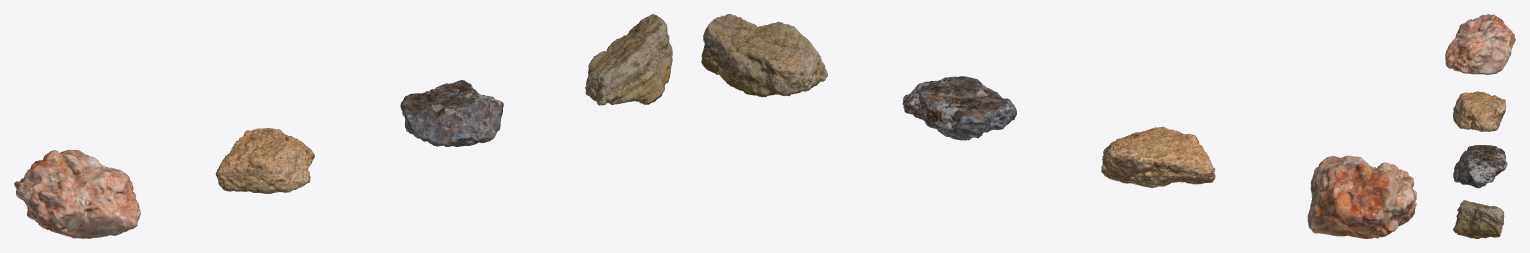
The model's file is rock_cluster_b.glb.
3 renders of one model, left to right at view 1: azimuth 30°, elevation 25°; view 2: azimuth 150°, elevation 25°; view 3: azimuth 270°, elevation 25°, orthographic. The views are drawn at different scales.
Visible parts, largest first — view 1: namaqualand_rocks_02_a, namaqualand_rocks_02_d, namaqualand_rocks_02_c, namaqualand_rocks_02_b; view 2: namaqualand_rocks_02_d, namaqualand_rocks_02_a, namaqualand_rocks_02_b, namaqualand_rocks_02_c; view 3: namaqualand_rocks_02_a, namaqualand_rocks_02_b, namaqualand_rocks_02_c, namaqualand_rocks_02_d.
Boxes of the visible parts, bbox=[...] form: namaqualand_rocks_02_a: bbox=[14, 149, 140, 238]; namaqualand_rocks_02_d: bbox=[585, 14, 672, 105]; namaqualand_rocks_02_c: bbox=[400, 80, 503, 146]; namaqualand_rocks_02_b: bbox=[215, 128, 314, 193]; namaqualand_rocks_02_d: bbox=[701, 14, 827, 97]; namaqualand_rocks_02_a: bbox=[1307, 155, 1416, 238]; namaqualand_rocks_02_b: bbox=[1101, 126, 1215, 187]; namaqualand_rocks_02_c: bbox=[902, 76, 1016, 140]; namaqualand_rocks_02_a: bbox=[1445, 14, 1515, 74]; namaqualand_rocks_02_b: bbox=[1453, 91, 1506, 131]; namaqualand_rocks_02_c: bbox=[1453, 145, 1507, 188]; namaqualand_rocks_02_d: bbox=[1453, 200, 1504, 238].
Size of the model in its own units: 1.45 by 0.1525 by 0.2169.
1 material, 1 textured.
